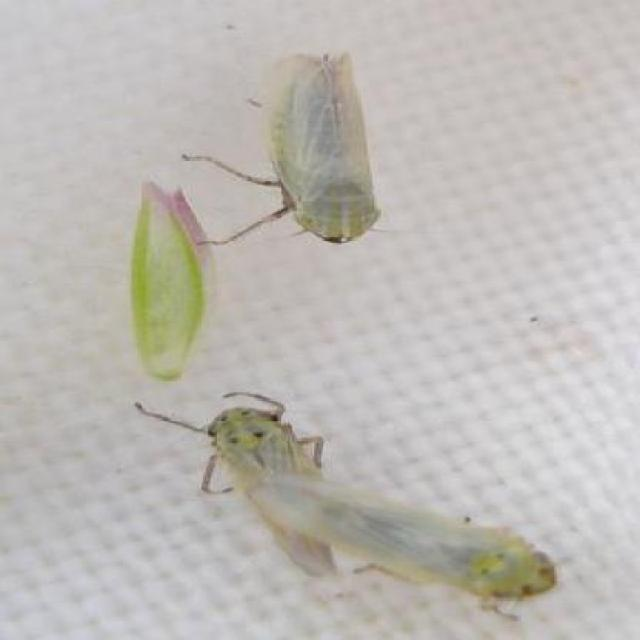green-leafhopper: (135, 393, 562, 623), (179, 52, 390, 250)
